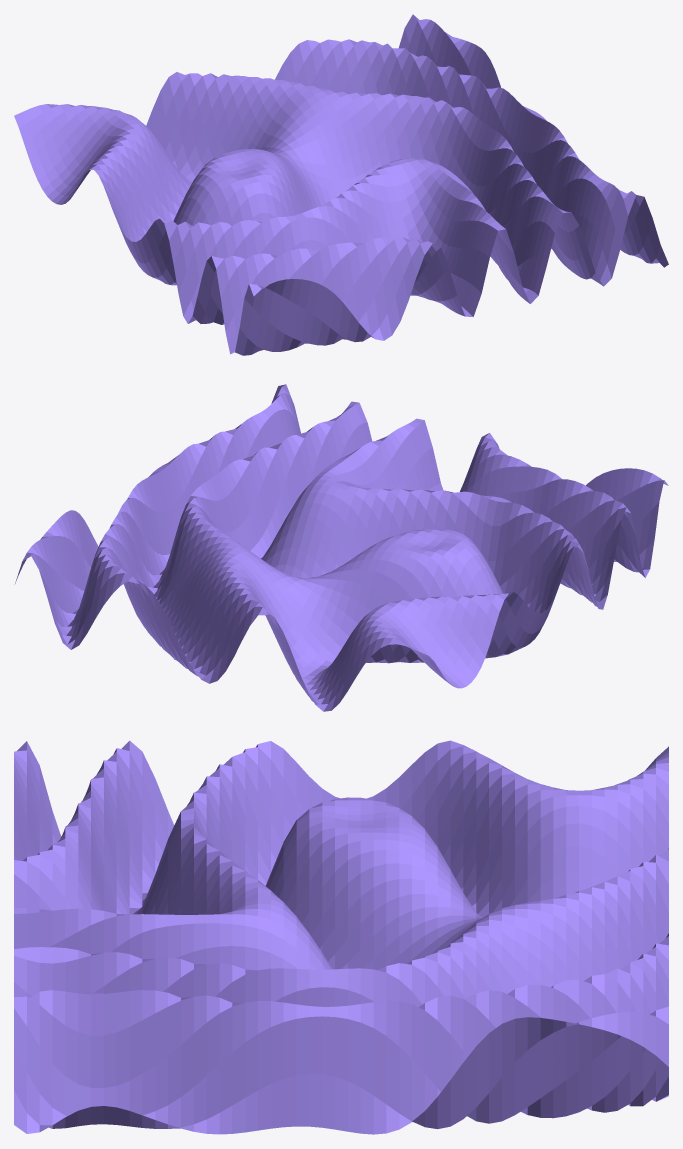
The model's file is snakefloor.gltf.
The picture shows the model from 3 angles, top to bottom: view 1: azimuth 30°, elevation 25°; view 2: azimuth 150°, elevation 25°; view 3: azimuth 270°, elevation 25°; orthographic projection. The views are drawn at different scales.
Visible parts, largest first — view 1: Snakefloor; view 2: Snakefloor; view 3: Snakefloor.
Boxes of the visible parts, <box> form: Snakefloor: <box>14,14,668,355</box>; Snakefloor: <box>14,384,668,711</box>; Snakefloor: <box>14,740,668,1134</box>.
Bounding box in the file's own units: 19.67 × 3.89 × 19.67.
